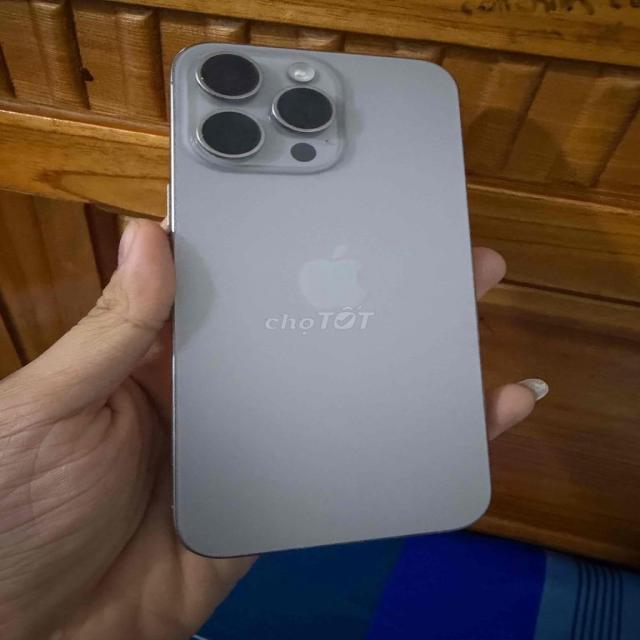gen_15: (156, 16, 494, 578)
